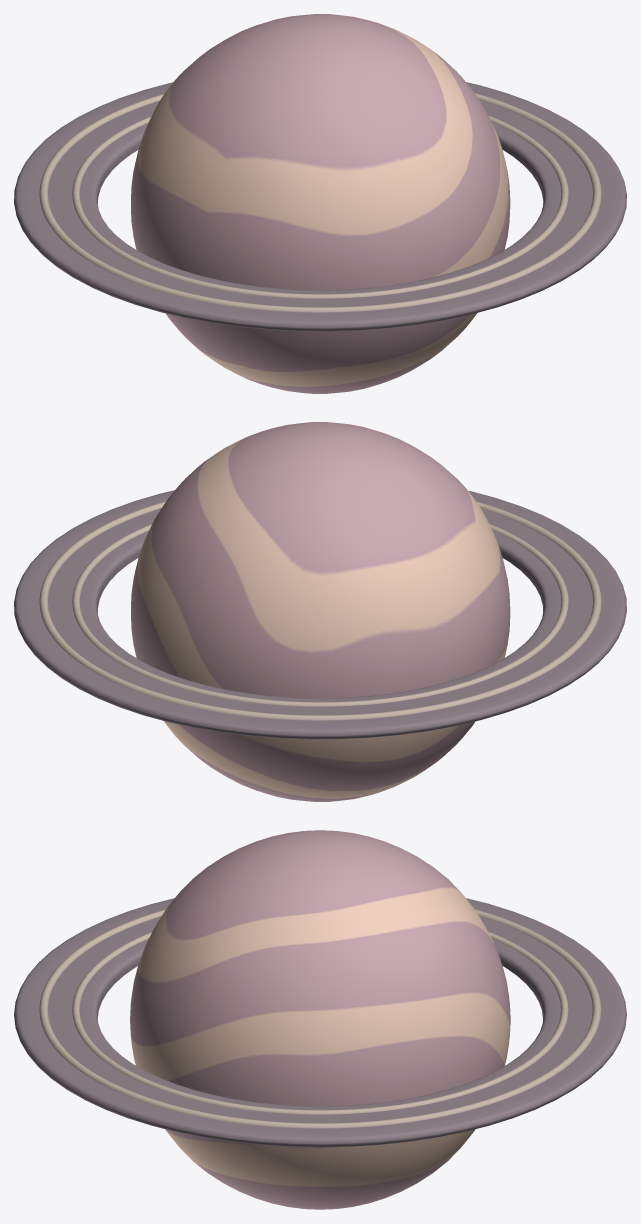
The model's file is saturn.gltf.
3 views of the same model, one above another, from view 1: azimuth 30°, elevation 25°; view 2: azimuth 150°, elevation 25°; view 3: azimuth 270°, elevation 25° (orthographic).
Visible parts, largest first — view 1: Roundcube, Circle, Torus.001, Torus; view 2: Roundcube, Circle, Torus.001, Torus; view 3: Roundcube, Circle, Torus.001, Torus.
Part boxes in pixels (bbox=[...]): Roundcube: bbox=[131, 14, 510, 393]; Circle: bbox=[14, 82, 626, 331]; Torus.001: bbox=[39, 93, 601, 312]; Torus: bbox=[72, 116, 568, 298]; Roundcube: bbox=[131, 422, 510, 801]; Circle: bbox=[14, 490, 626, 739]; Torus.001: bbox=[39, 501, 601, 720]; Torus: bbox=[72, 524, 568, 706]; Roundcube: bbox=[130, 830, 510, 1209]; Circle: bbox=[14, 898, 626, 1147]; Torus.001: bbox=[39, 909, 601, 1128]; Torus: bbox=[72, 932, 568, 1114].
Size of the model in its own units: 3.08 by 1.92 by 3.08.
6 materials, 1 textured.
